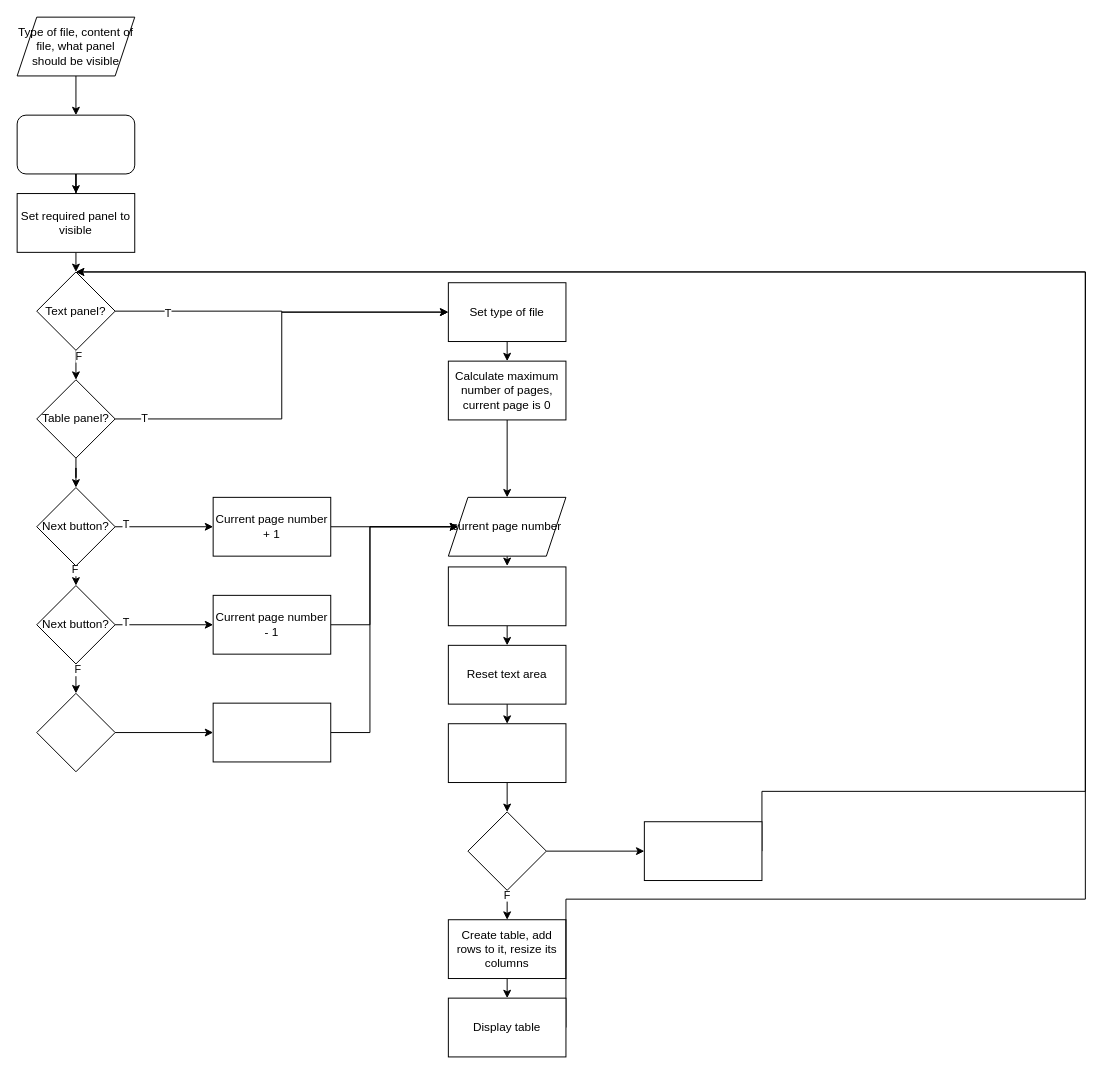
Some shapes in this 1110 by 1074 pixel diagram are drawn without their labels. Each missing label, with the box of its shape:
Current page number = entered page number: (212, 702, 331, 762)
Display: (16, 114, 135, 174)
Display each line of text in text area: (643, 821, 762, 881)
Display number of pages: (447, 566, 566, 626)
fasta file?: (467, 811, 546, 890)
Go button?: (36, 692, 115, 772)
Set start and end line according to current page number: (447, 723, 566, 783)
